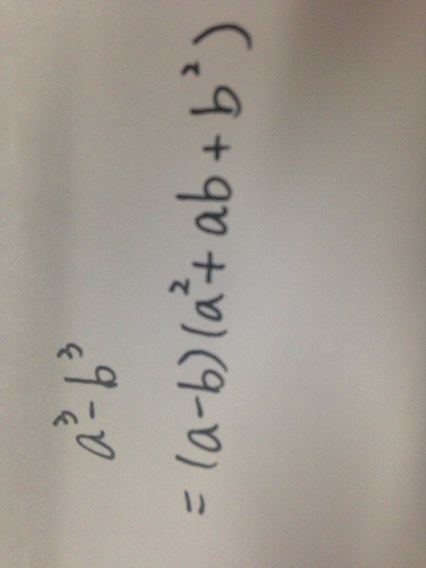cube: (51, 337, 88, 363), (43, 406, 79, 430)
